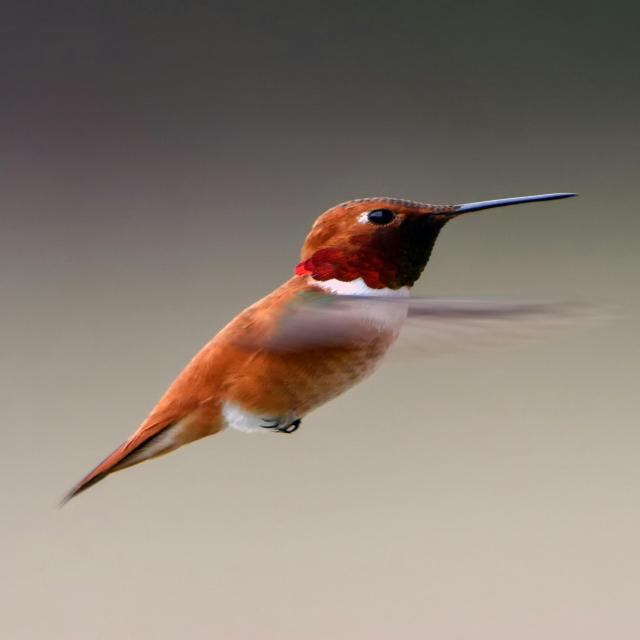Humming Bird: (46, 175, 596, 513)
